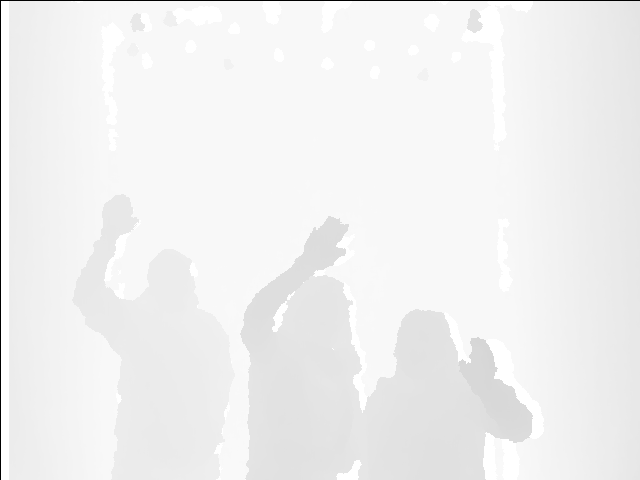hand: (294, 214, 348, 269), (99, 192, 140, 238)
